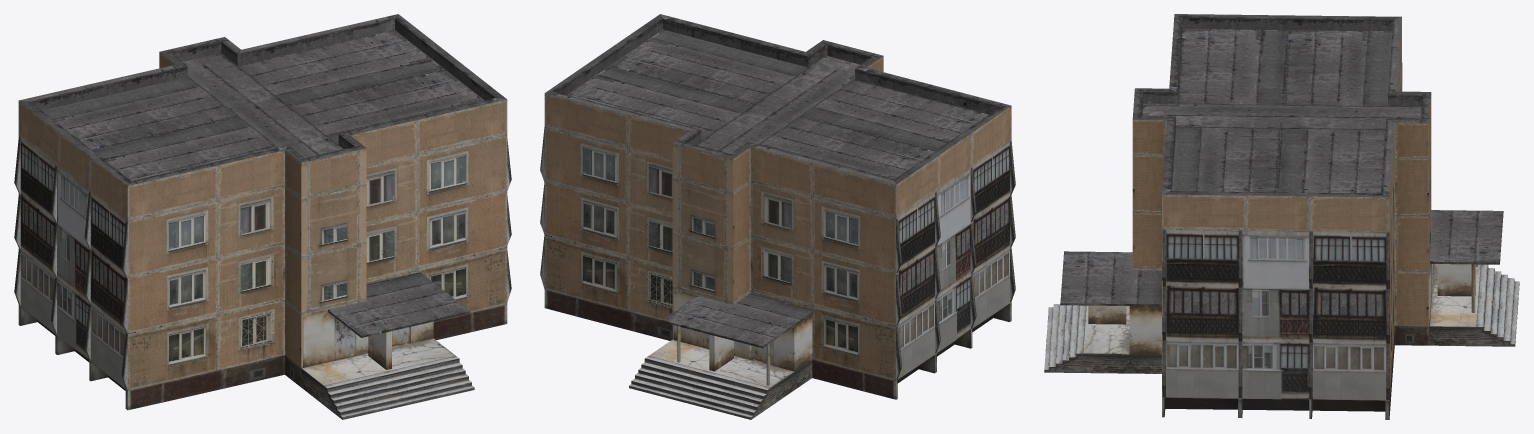
File: apt2.obj
3 renders of one model, left to right at view 1: azimuth 30°, elevation 25°; view 2: azimuth 150°, elevation 25°; view 3: azimuth 270°, elevation 25°, orthographic. The views are drawn at different scales.
Parts seen in each view (by area): view 1: Cube.010; view 2: Cube.010; view 3: Cube.010.
Part boxes in pixels (x1,y1,x2,y2): Cube.010: (14, 14, 511, 419); Cube.010: (540, 14, 1015, 419); Cube.010: (1044, 14, 1519, 419).
Size of the model in its own units: 74.48 by 41.18 by 79.68.
